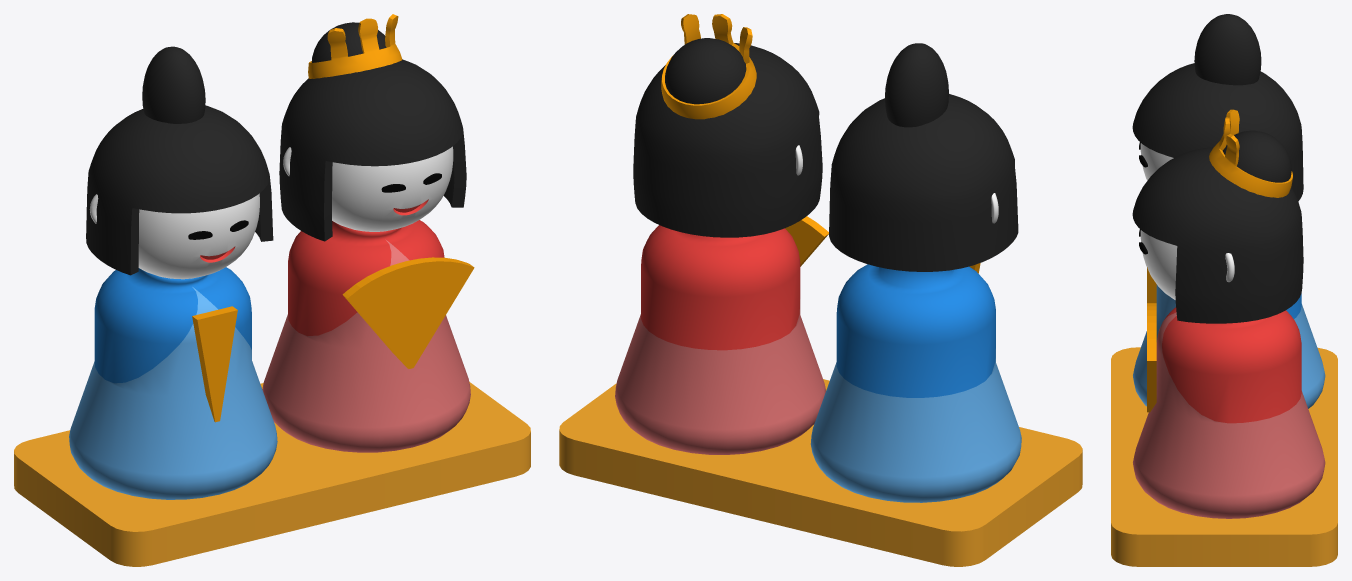
Rendered from japanese_dolls.gltf.
3 renders of one model, left to right at view 1: azimuth 30°, elevation 25°; view 2: azimuth 150°, elevation 25°; view 3: azimuth 270°, elevation 25°, orthographic. The views are drawn at different scales.
Parts seen in each view (by area): view 1: Cube.922, Cylinder.468, Cylinder.465, Roundcube.506, Roundcube.508, Cube.921, Roundcube.507, Roundcube.505, Sphere.516, Sphere.527, Sphere.515; view 2: Cylinder.468, Cylinder.465, Cube.922, Roundcube.508, Roundcube.506, Sphere.516, Sphere.515, Sphere.527, Cube.921; view 3: Cylinder.465, Roundcube.506, Cube.922, Roundcube.508, Sphere.516, Cylinder.468, Sphere.527, Sphere.515, Roundcube.505, Cube.921, Roundcube.507.
Boxes of the visible parts, bbox=[...] form: Cube.922: bbox=[14, 382, 530, 566]; Cylinder.468: bbox=[69, 267, 277, 499]; Cylinder.465: bbox=[262, 220, 470, 452]; Roundcube.506: bbox=[279, 59, 466, 241]; Roundcube.508: bbox=[86, 105, 273, 275]; Cube.921: bbox=[192, 257, 474, 422]; Roundcube.507: bbox=[138, 193, 259, 279]; Roundcube.505: bbox=[332, 146, 453, 231]; Sphere.516: bbox=[142, 46, 205, 123]; Sphere.527: bbox=[308, 14, 402, 78]; Sphere.515: bbox=[311, 22, 386, 62]; Cylinder.468: bbox=[810, 264, 1021, 502]; Cylinder.465: bbox=[615, 225, 825, 454]; Cube.922: bbox=[559, 379, 1082, 566]; Roundcube.508: bbox=[829, 94, 1018, 271]; Roundcube.506: bbox=[633, 43, 822, 237]; Sphere.516: bbox=[885, 43, 948, 127]; Sphere.515: bbox=[665, 38, 746, 104]; Sphere.527: bbox=[661, 14, 756, 119]; Cube.921: bbox=[785, 216, 980, 273]; Cylinder.465: bbox=[1133, 307, 1325, 518]; Roundcube.506: bbox=[1132, 147, 1303, 323]; Cube.922: bbox=[1111, 347, 1337, 566]; Roundcube.508: bbox=[1132, 63, 1303, 201]; Sphere.516: bbox=[1194, 14, 1261, 85]; Cylinder.468: bbox=[1133, 284, 1325, 408]; Sphere.527: bbox=[1209, 109, 1292, 197]; Sphere.515: bbox=[1222, 130, 1291, 182]; Roundcube.505: bbox=[1140, 230, 1177, 299]; Cube.921: bbox=[1147, 267, 1156, 412]; Roundcube.507: bbox=[1140, 143, 1173, 180].
Size of the model in its own units: 2.21 by 2.27 by 1.13.
1 material, 1 textured.
